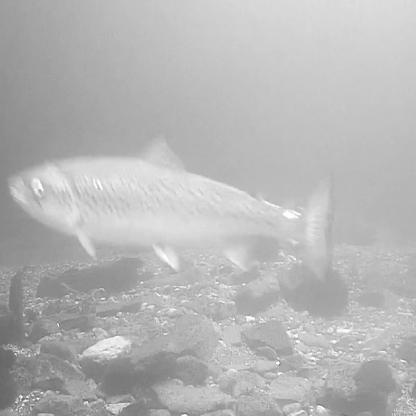salmon: (4, 129, 341, 282)
